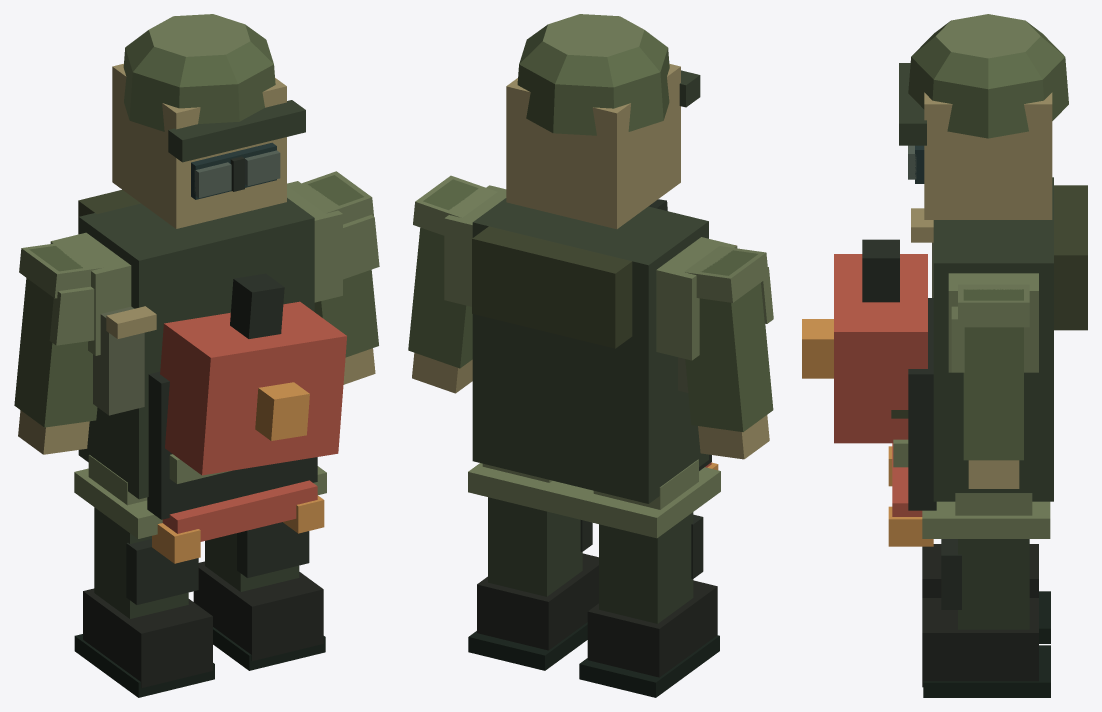
The model's file is bomber.obj.
The picture shows the model from 3 angles, left to right: view 1: azimuth 30°, elevation 25°; view 2: azimuth 150°, elevation 25°; view 3: azimuth 270°, elevation 25°; orthographic projection.
Visible parts, largest first — view 1: BOMBER_BODY, BOMBER_HEAD, BOMBER_WEAPON, BOMBER_LEG_L, BOMBER_ARM_L, BOMBER_LEG_R, BOMBER_ARM_R; view 2: BOMBER_BODY, BOMBER_HEAD, BOMBER_LEG_L, BOMBER_LEG_R, BOMBER_ARM_L, BOMBER_ARM_R; view 3: BOMBER_BODY, BOMBER_HEAD, BOMBER_LEG_R, BOMBER_WEAPON, BOMBER_ARM_R, BOMBER_LEG_L.
Part boxes in pixels (x1,y1,x2,y2): BOMBER_BODY: (50,181,342,563); BOMBER_HEAD: (112,14,305,228); BOMBER_WEAPON: (160,273,346,475); BOMBER_LEG_L: (74,455,214,697); BOMBER_ARM_L: (14,241,103,454); BOMBER_LEG_R: (193,522,325,670); BOMBER_ARM_R: (290,171,379,384); BOMBER_BODY: (444,185,737,538); BOMBER_HEAD: (506,14,700,229); BOMBER_LEG_L: (579,459,719,697); BOMBER_LEG_R: (468,463,598,670); BOMBER_ARM_L: (684,246,773,459); BOMBER_ARM_R: (408,175,497,393); BOMBER_BODY: (888,177,1087,546); BOMBER_HEAD: (899,14,1068,219); BOMBER_LEG_R: (922,493,1050,697); BOMBER_WEAPON: (802,239,927,443); BOMBER_ARM_R: (951,284,1029,488); BOMBER_LEG_L: (922,544,1050,643).
Bounding box in the file's own units: 1.03 × 1.81 × 0.76.
1 material, 1 textured.
